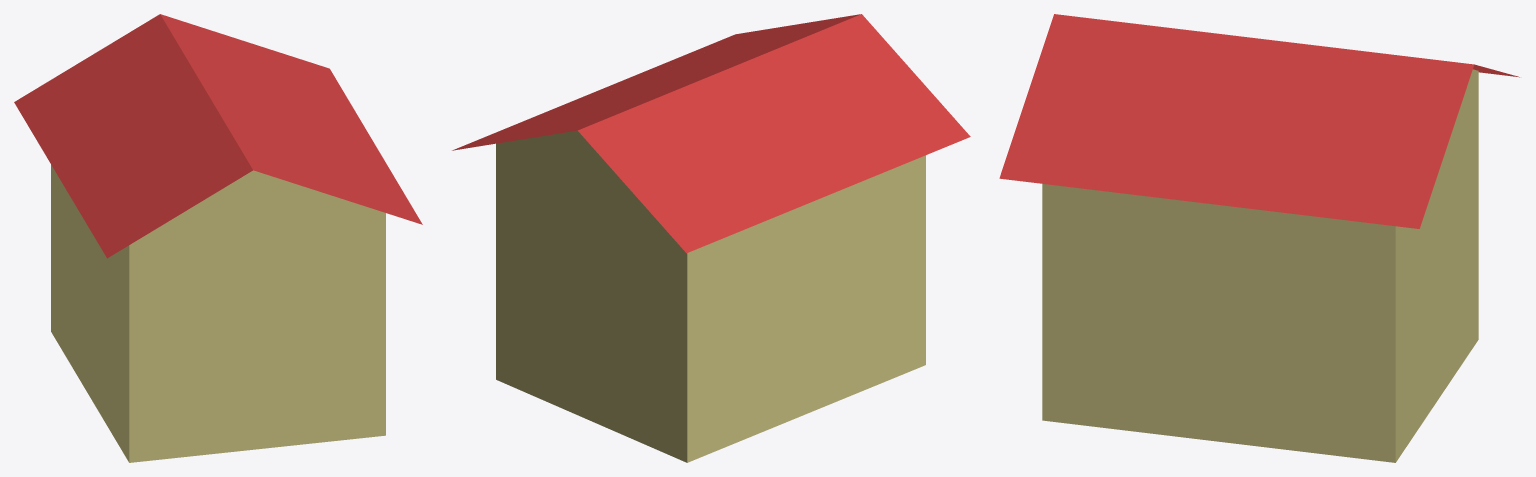
3 views of the same model, side by side, from view 1: azimuth 30°, elevation 25°; view 2: azimuth 150°, elevation 25°; view 3: azimuth 270°, elevation 25° (orthographic). The views are drawn at different scales.
Bounding box in the file's own units: 10.29 × 11.24 × 7.96.
